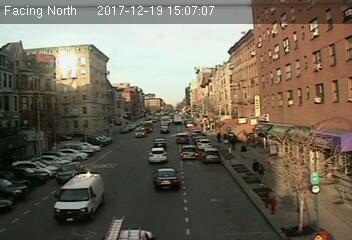car: (152, 167, 180, 188), (147, 147, 167, 164), (180, 145, 200, 160), (203, 148, 221, 162), (174, 132, 189, 145), (153, 138, 167, 149), (135, 127, 145, 137)
truck: (52, 173, 107, 220)
